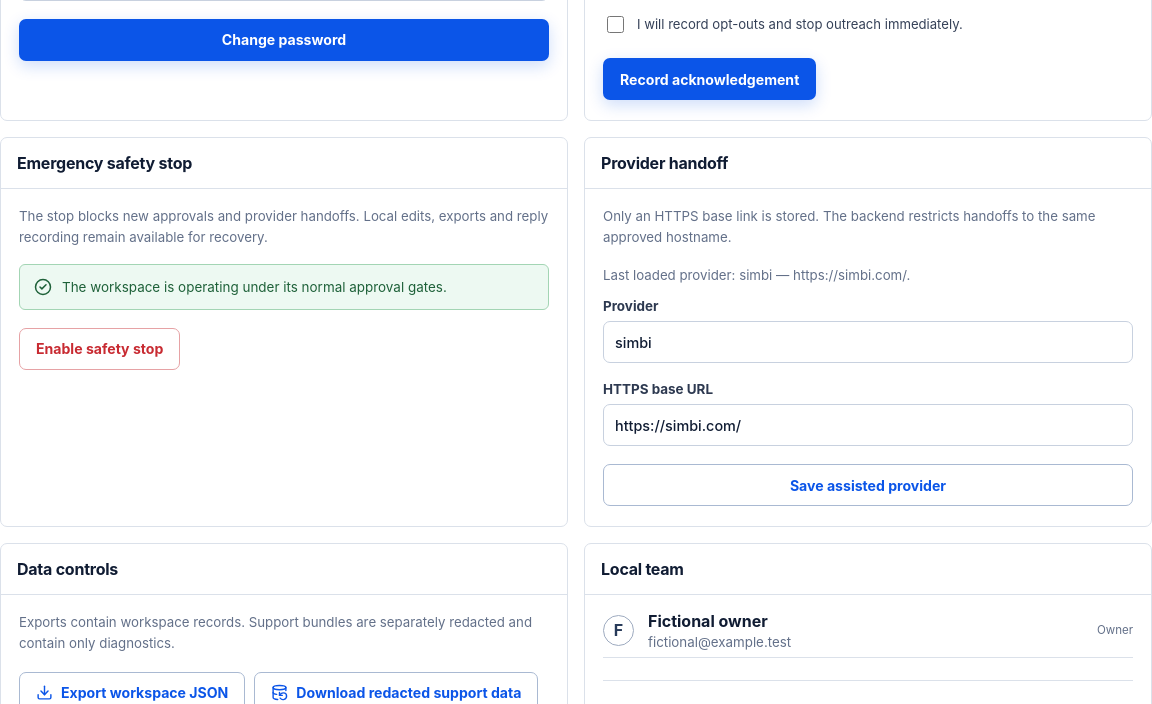
Test: does not claim the safety stop is enabled after an empty successful confirmation
(page scrolled)
Step 1. Click the button "Enable safety stop" → (100, 349), box [19,328,180,370]
(page scrolled)
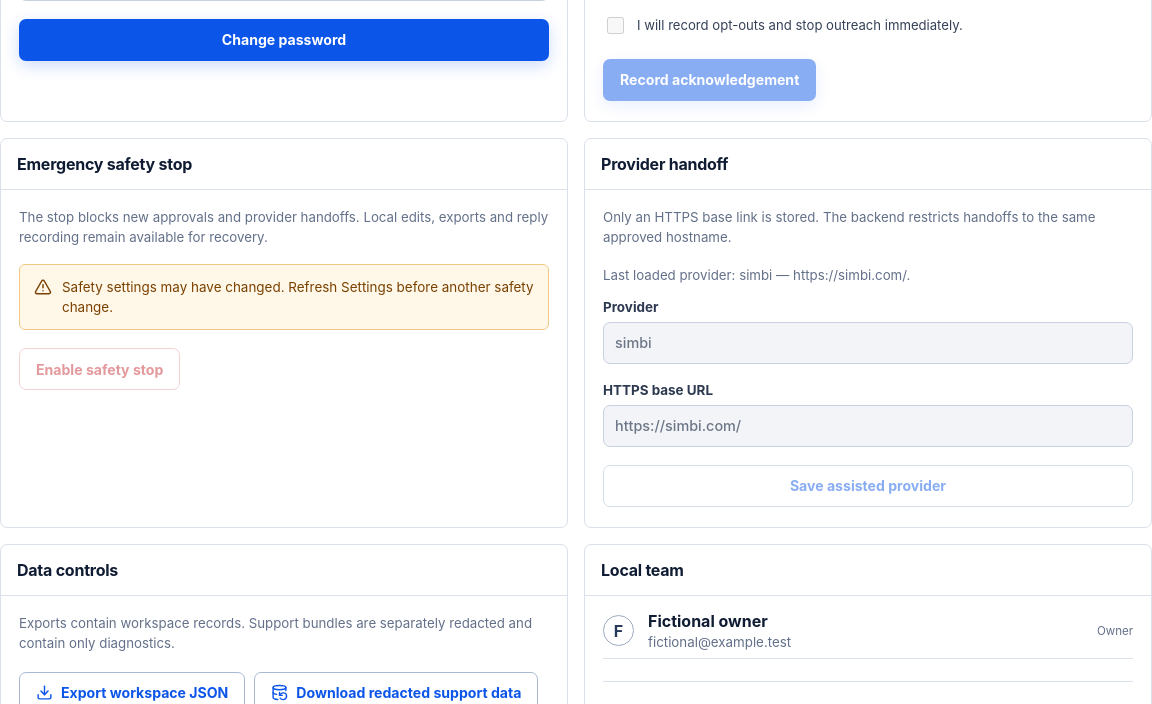
expect the text "The workspace is operating under its normal approval gates." is gone: met
expect the button "Enable safety stop" is disabled: met, box [19,348,180,390]
